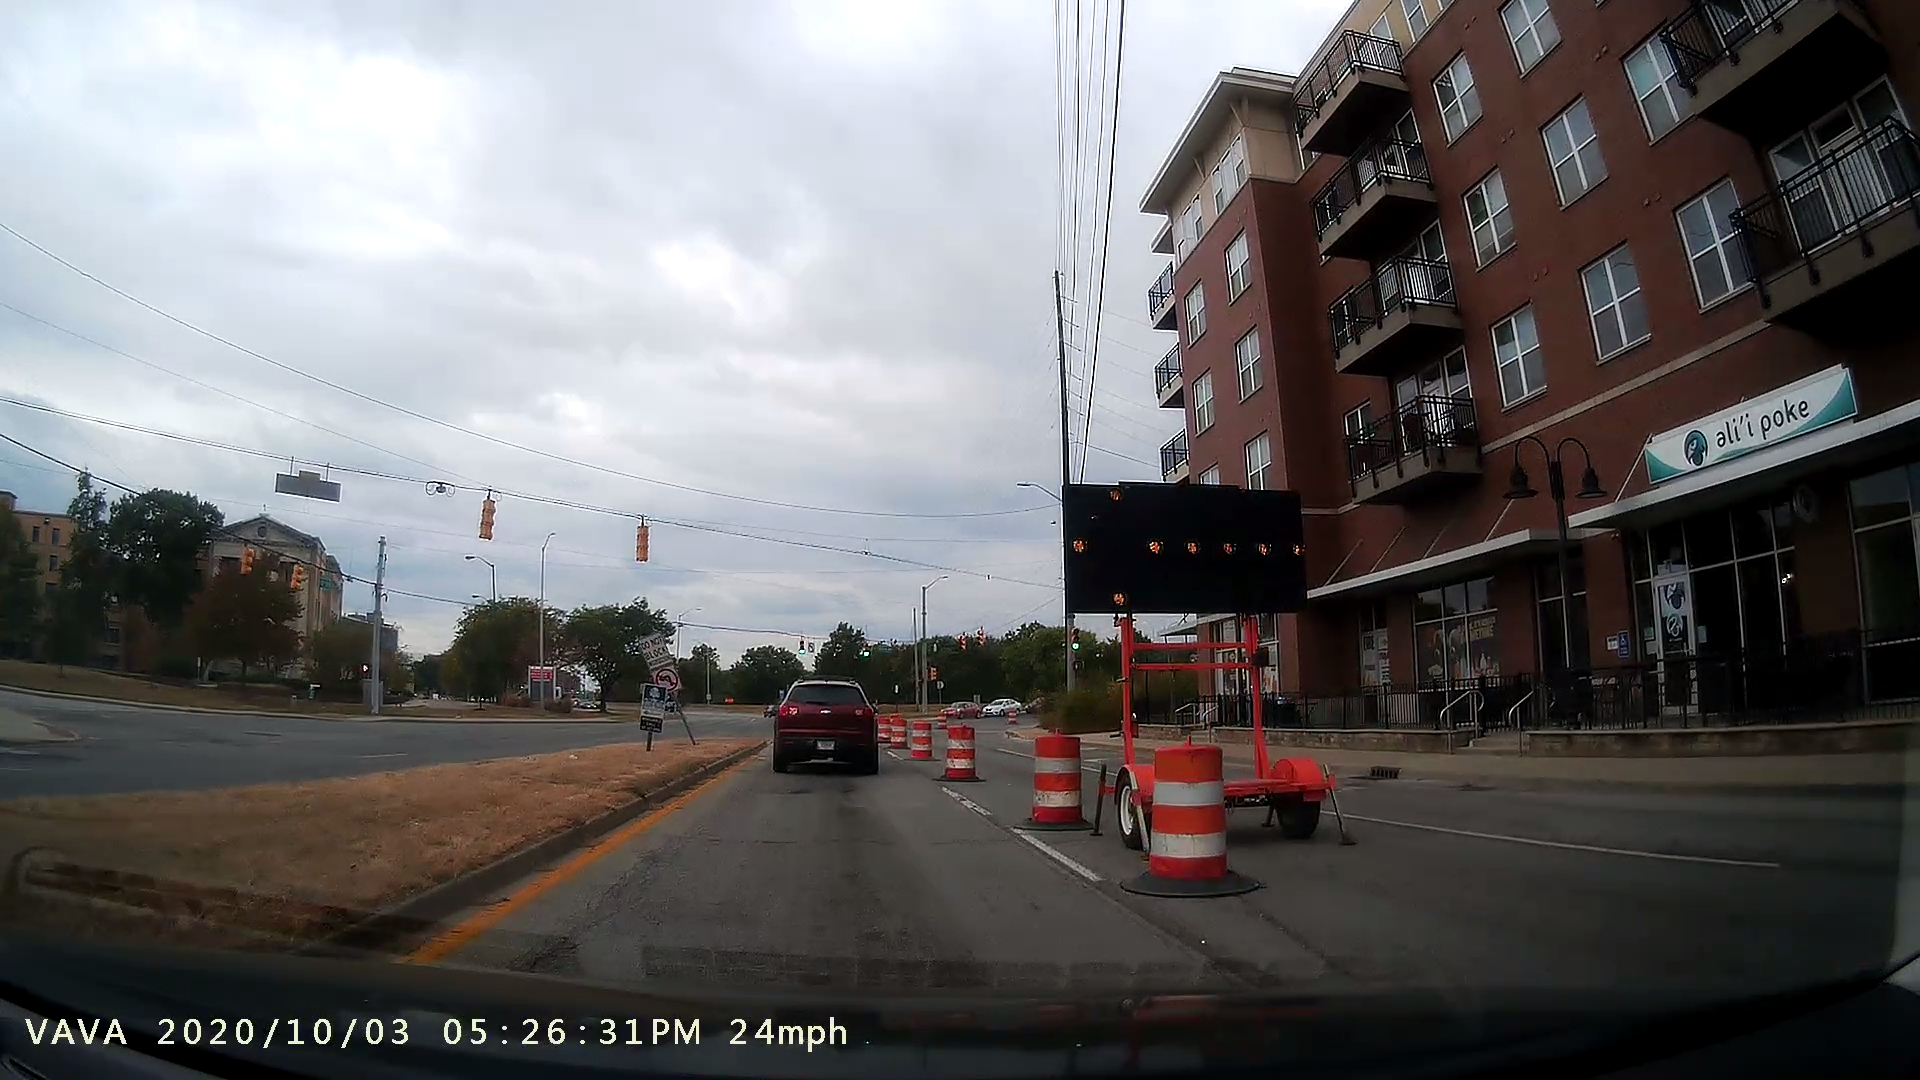const_barrel: (1127, 741, 1261, 905), (1014, 712, 1102, 833), (927, 711, 989, 785)
